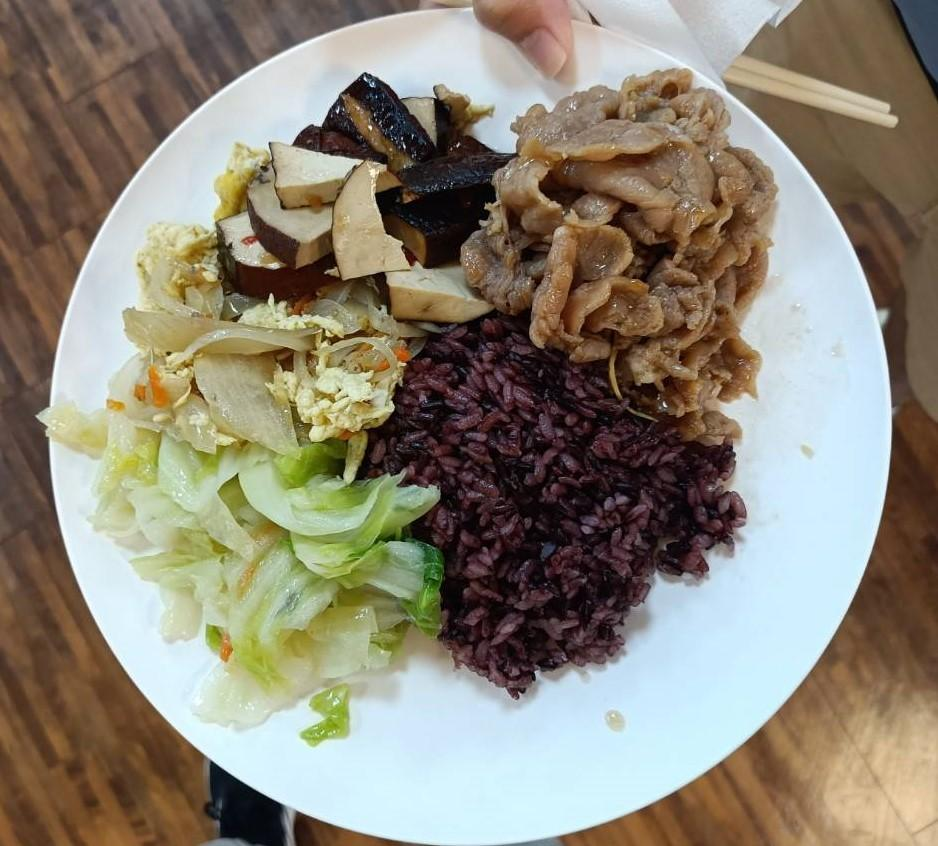big fried chicken leg: (50, 14, 895, 846)
braised fish: (382, 320, 748, 689)
braised fish fillet: (95, 421, 449, 723), (212, 78, 498, 325), (119, 232, 412, 435)
braised pork: (476, 64, 783, 414)
